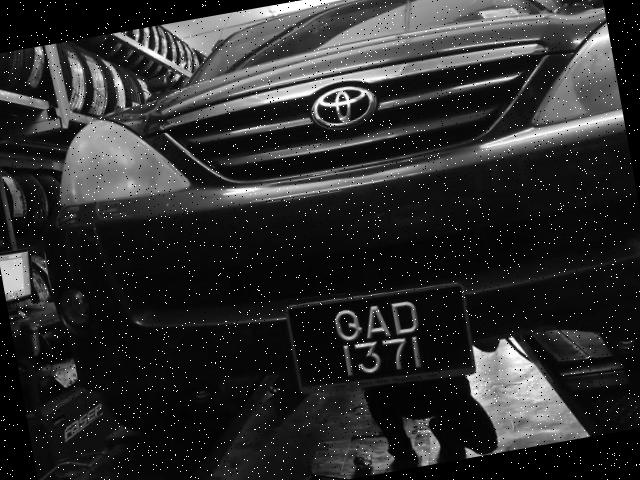License_Plate: (288, 278, 474, 395)
car: (9, 1, 640, 471)
